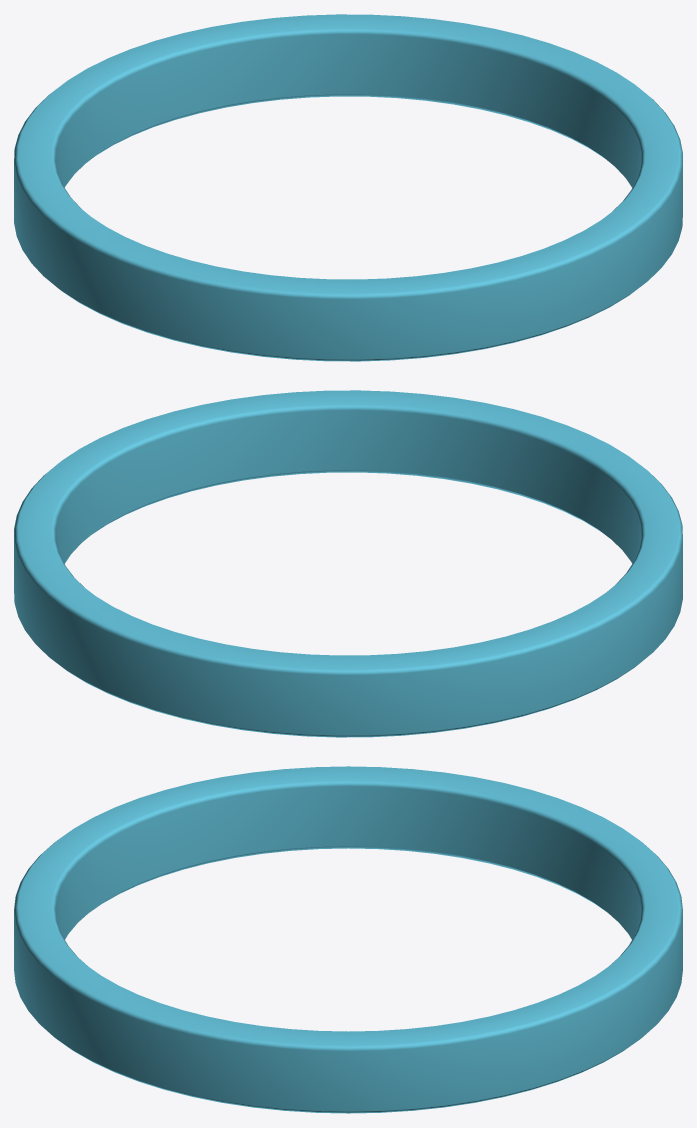
The picture shows the model from 3 angles, top to bottom: view 1: azimuth 30°, elevation 25°; view 2: azimuth 150°, elevation 25°; view 3: azimuth 270°, elevation 25°; orthographic projection.
Visible parts, largest first — view 1: seal_body; view 2: seal_body; view 3: seal_body.
Part boxes in pixels (x1=…): seal_body: x1=14, y1=14, x2=682, y2=361; seal_body: x1=14, y1=390, x2=682, y2=737; seal_body: x1=14, y1=766, x2=682, y2=1113.
Size of the model in its own units: 0.127 by 0.0143 by 0.127.
